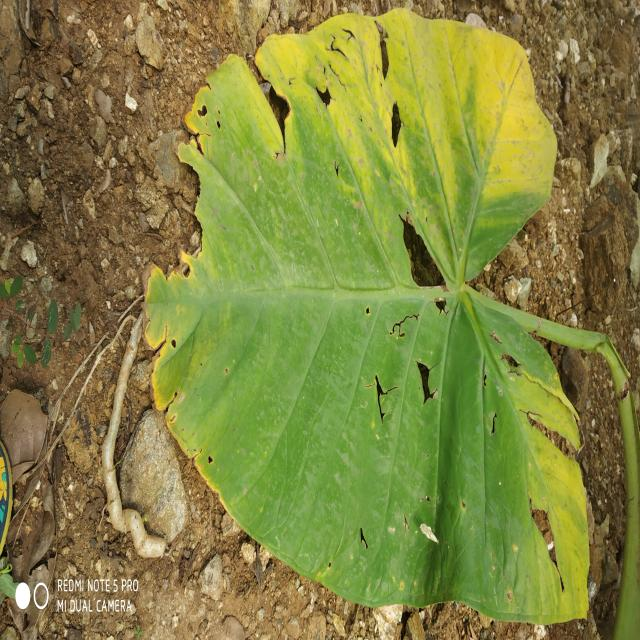disease in leaf: (146, 9, 589, 624)
taro: (146, 9, 640, 638)
